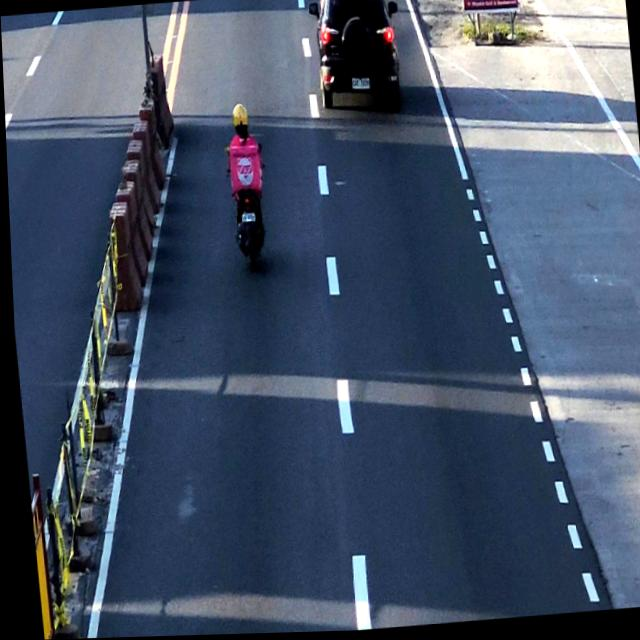Car: (304, 0, 409, 121)
License-Plate: (349, 77, 373, 96), (235, 212, 257, 226)
Motorcycle: (218, 107, 273, 276)
